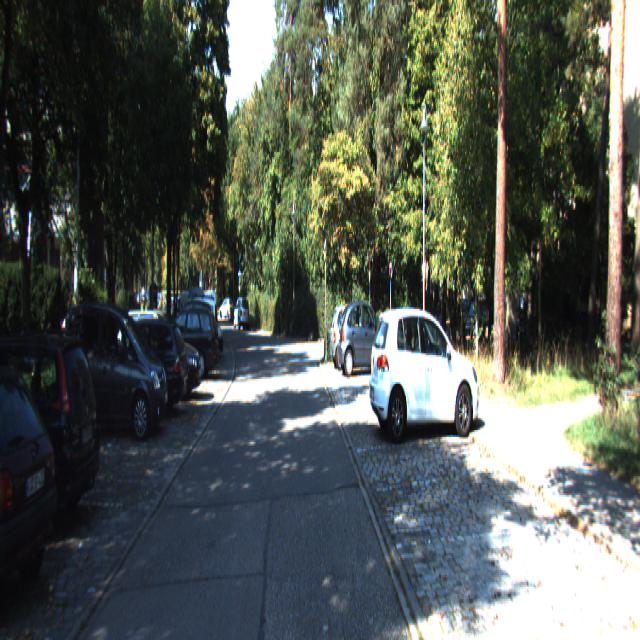Car: (0, 323, 103, 549), (0, 350, 63, 626), (55, 298, 170, 446), (367, 304, 482, 442), (88, 314, 189, 423), (114, 307, 202, 406), (153, 302, 219, 381), (337, 297, 393, 377), (233, 297, 250, 331)
